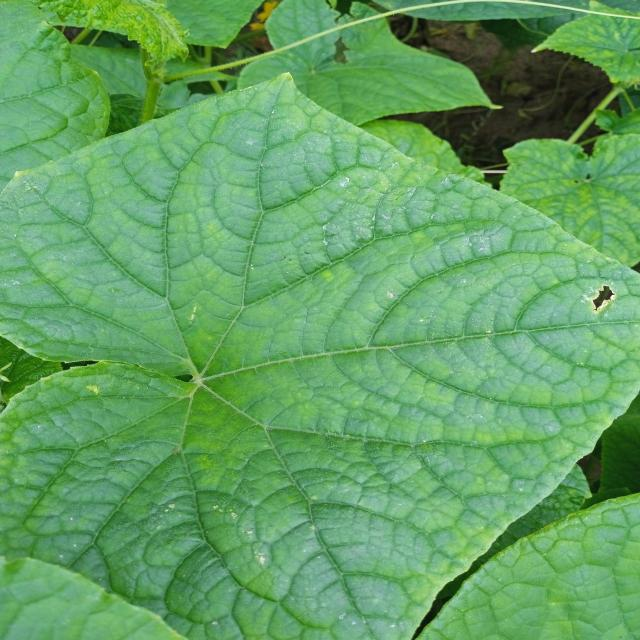cucumber_healthy: (1, 67, 640, 640), (421, 496, 640, 640), (501, 104, 640, 264)
